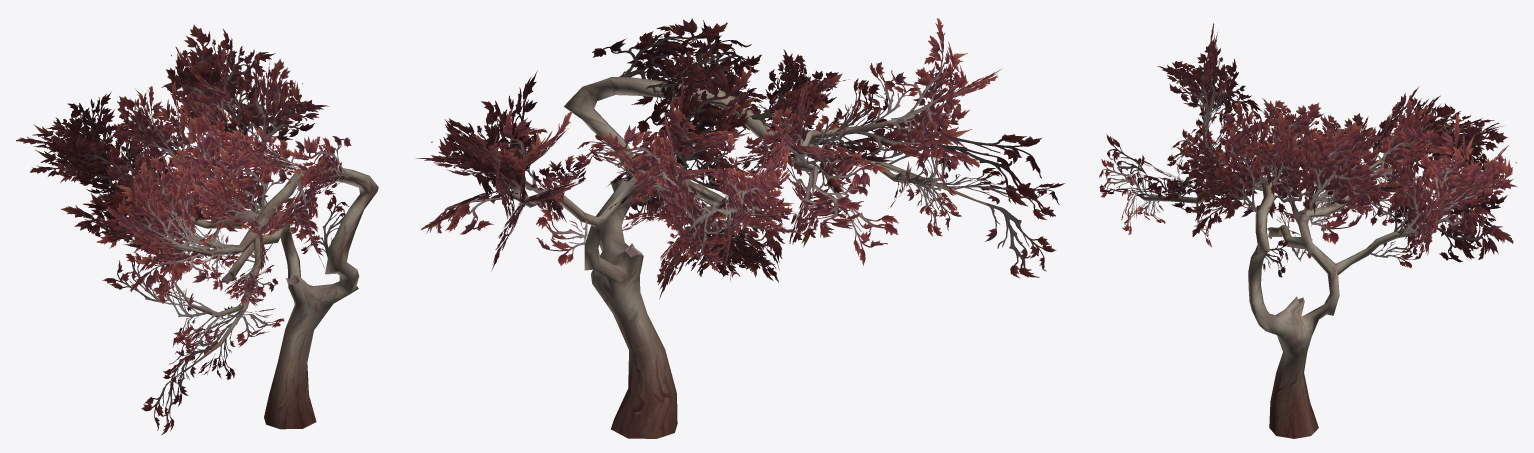
3 renders of one model, left to right at view 1: azimuth 30°, elevation 25°; view 2: azimuth 150°, elevation 25°; view 3: azimuth 270°, elevation 25°, orthographic. The views are drawn at different scales.
Size of the model in its own units: 11.22 by 10.04 by 12.07.
Materials: 2 (2 with a texture image).
